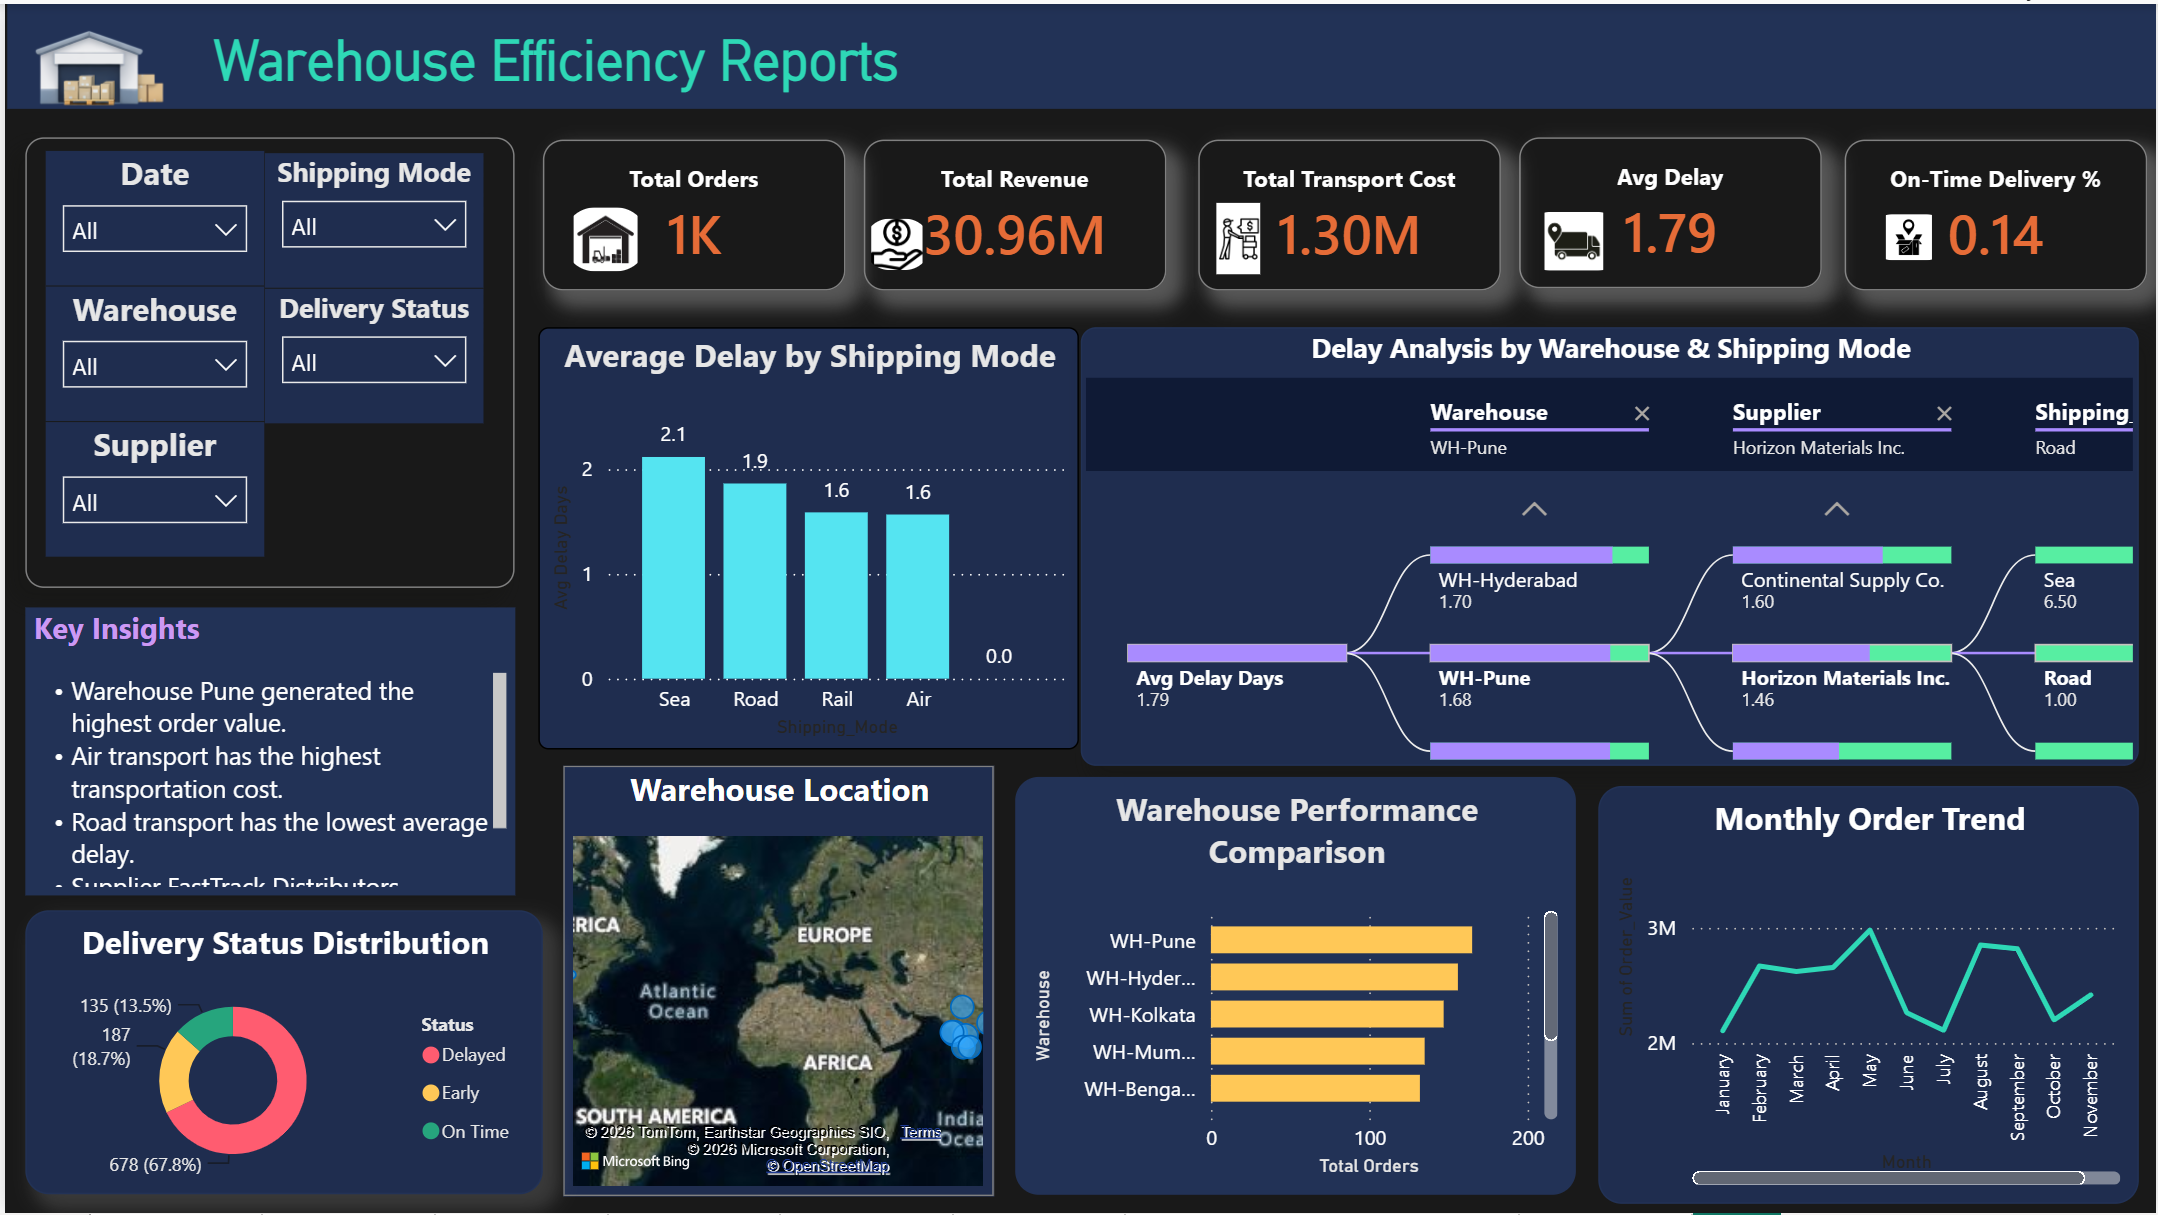

The page's visual inventory and layout, read from the dashboard file:
{"tool":"powerbi","page":{"name":"Page 4","canvas":[1280,720],"ordinal":3},"visuals":[{"type":"textbox","box":[0,0,1280.5,85.4],"z":0},{"type":"cardVisual","fields":{"Data":["preproDataset_supplyChain.Total Orders"]},"box":[0,86,191.1,110.6],"z":1000},{"type":"slicer","fields":{"Values":["preproDataset_supplyChain.Supplier"]},"box":[0,291.3,155.1,71],"z":2000},{"type":"slicer","fields":{"Values":["preproDataset_supplyChain.Warehouse"]},"box":[0,214.5,155.1,76.8],"z":3000},{"type":"slicer","fields":{"Values":["preproDataset_supplyChain.Shipping_Mode"]},"box":[1.4,362.3,155.1,73.9],"z":4000},{"type":"slicer","fields":{"Values":["preproDataset_supplyChain.Status"]},"box":[0,436.2,155.1,76.8],"z":5000},{"type":"clusteredBarChart","title":"Total Order Value by Warehouse","fields":{"Category":["preproDataset_supplyChain.Warehouse"],"Y":["preproDataset_supplyChain.Total Order Value"]},"box":[729,205.8,550.7,269.6],"z":6000},{"type":"clusteredBarChart","title":"Transportation Cost by Shipping Mode","fields":{"Category":["preproDataset_supplyChain.Shipping_Mode"],"Y":["preproDataset_supplyChain.Total Transport Cost"]},"box":[439.1,205.8,289.9,153.6],"z":7000},{"type":"clusteredBarChart","title":"Average Delay by Shipping Mode","fields":{"Category":["preproDataset_supplyChain.Shipping_Mode"],"Y":["preproDataset_supplyChain.Average Delay"]},"box":[169.6,231.9,269.6,260.9],"z":8000},{"type":"pivotTable","fields":{"Rows":["preproDataset_supplyChain.Warehouse"],"Columns":["preproDataset_supplyChain.Shipping_Mode"],"Values":["preproDataset_supplyChain.Total Orders","preproDataset_supplyChain.Total Order Value","preproDataset_supplyChain.Total Transportation Cost","preproDataset_supplyChain.Average Delay"]},"box":[0,524.6,415.9,195.7],"z":9000},{"type":"cardVisual","fields":{"Data":["preproDataset_supplyChain.Total Order Value"]},"box":[191.1,86,218.8,111.6],"z":10000},{"type":"cardVisual","fields":{"Data":["preproDataset_supplyChain.Total Transportation Cost"]},"box":[409.6,84.7,229,111.6],"z":11000},{"type":"cardVisual","fields":{"Data":["preproDataset_supplyChain.Average Delay Days"]},"box":[639,84.7,204.3,111.6],"z":12000},{"type":"cardVisual","fields":{"Data":["preproDataset_supplyChain.On-Time Delivery %"]},"box":[843.8,86,233.5,110.6],"z":13000},{"type":"cardVisual","fields":{"Data":["preproDataset_supplyChain.Average Order Value"]},"box":[1076.8,85.5,202.9,111.6],"z":14000},{"type":"decompositionTreeVisual","fields":{"Analyze":["preproDataset_supplyChain.Total Order Value"],"ExplainBy":["preproDataset_supplyChain.Warehouse","preproDataset_supplyChain.Shipping_Mode","preproDataset_supplyChain.Status","preproDataset_supplyChain.Supplier"]},"box":[714.5,492.8,565.2,227.5],"z":15000},{"type":"textbox","title":"Narrative","box":[439,501.5,287,217.4],"z":16000},{"type":"donutChart","title":"Delivery Status","fields":{"Category":["preproDataset_supplyChain.Status"],"Y":["CountNonNull(preproDataset_supplyChain.Order_ID)"]},"box":[439.1,359.4,289.9,133.3],"z":17000}]}

Visuals, with their boxes in screenshot pixels (x1, y1, x2, y2), scaled from the page's 1280x720 canvas onto the 2158x1215 screenshot:
textbox: box(0, 0, 2157, 144)
cardVisual - preproDataset_supplyChain.Total Orders: box(0, 145, 322, 332)
slicer - preproDataset_supplyChain.Supplier: box(0, 492, 261, 611)
slicer - preproDataset_supplyChain.Warehouse: box(0, 362, 261, 492)
slicer - preproDataset_supplyChain.Shipping_Mode: box(2, 611, 264, 736)
slicer - preproDataset_supplyChain.Status: box(0, 736, 261, 866)
"Total Order Value by Warehouse" clusteredBarChart: box(1229, 347, 2157, 802)
"Transportation Cost by Shipping Mode" clusteredBarChart: box(740, 347, 1229, 606)
"Average Delay by Shipping Mode" clusteredBarChart: box(286, 391, 740, 832)
pivotTable - preproDataset_supplyChain.Warehouse x preproDataset_supplyChain.Shipping_Mode: box(0, 885, 701, 1214)
cardVisual - preproDataset_supplyChain.Total Order Value: box(322, 145, 691, 333)
cardVisual - preproDataset_supplyChain.Total Transportation Cost: box(691, 143, 1077, 331)
cardVisual - preproDataset_supplyChain.Average Delay Days: box(1077, 143, 1422, 331)
cardVisual - preproDataset_supplyChain.On-Time Delivery %: box(1423, 145, 1816, 332)
cardVisual - preproDataset_supplyChain.Average Order Value: box(1815, 144, 2157, 333)
decompositionTreeVisual - preproDataset_supplyChain.Total Order Value x preproDataset_supplyChain.Warehouse: box(1205, 832, 2157, 1214)
"Narrative" textbox: box(740, 846, 1224, 1213)
"Delivery Status" donutChart: box(740, 606, 1229, 831)
